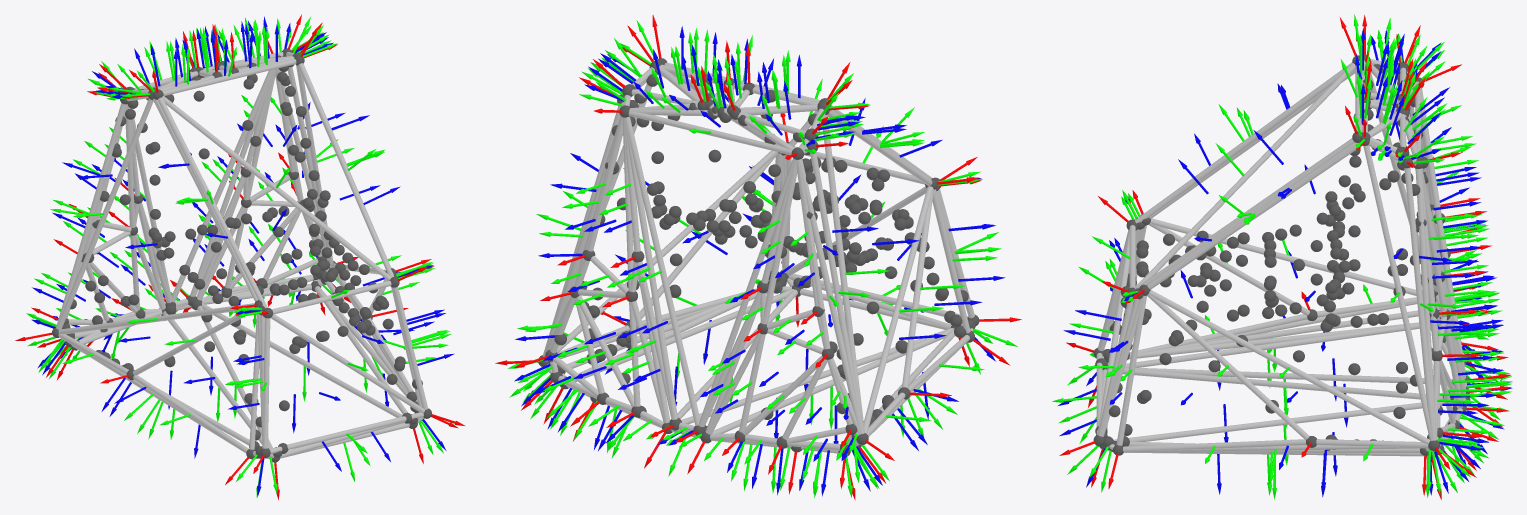
Rendered from author1_chair_ff.gltf.
3 renders of one model, left to right at view 1: azimuth 30°, elevation 25°; view 2: azimuth 150°, elevation 25°; view 3: azimuth 270°, elevation 25°, orthographic. The views are drawn at different scales.
Bounding box in the file's own units: 0.7226 × 0.7139 × 0.7583.
